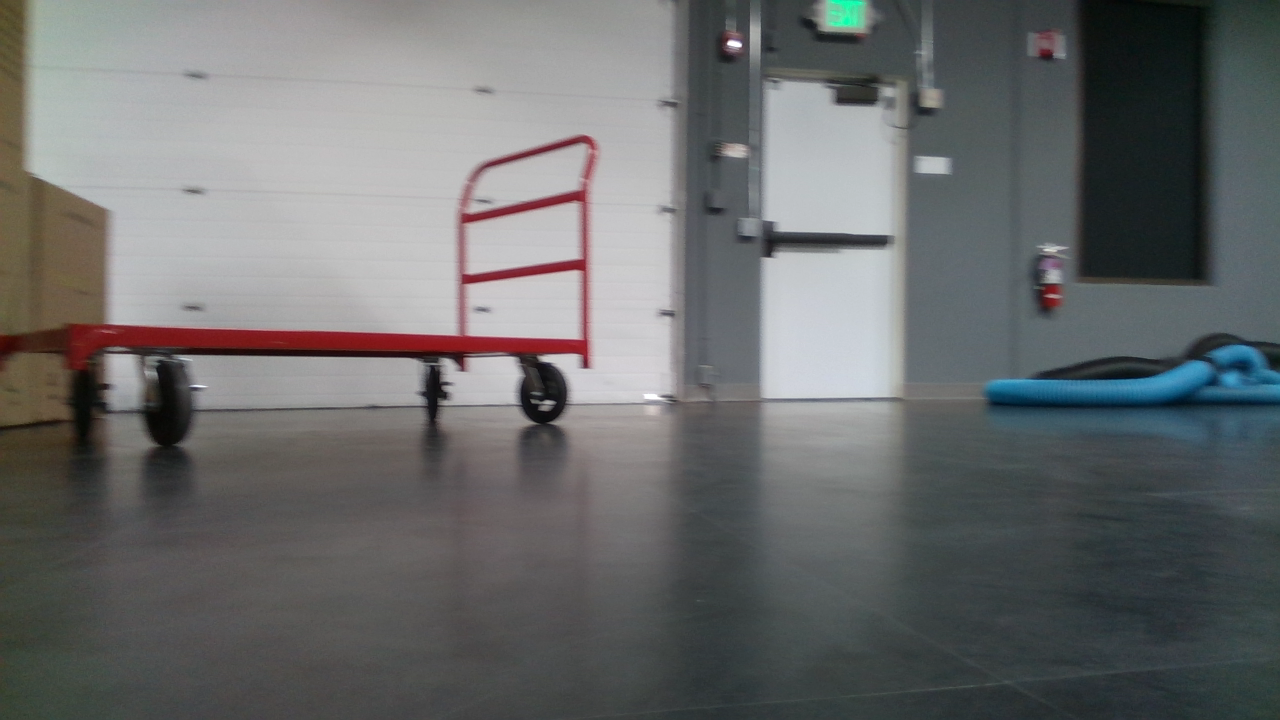Dolly: (0, 133, 600, 449)
Wheel: (139, 354, 202, 446), (518, 361, 571, 425), (67, 362, 102, 439), (418, 363, 451, 418)
